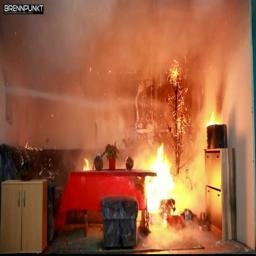fire: (131, 135, 197, 224)
